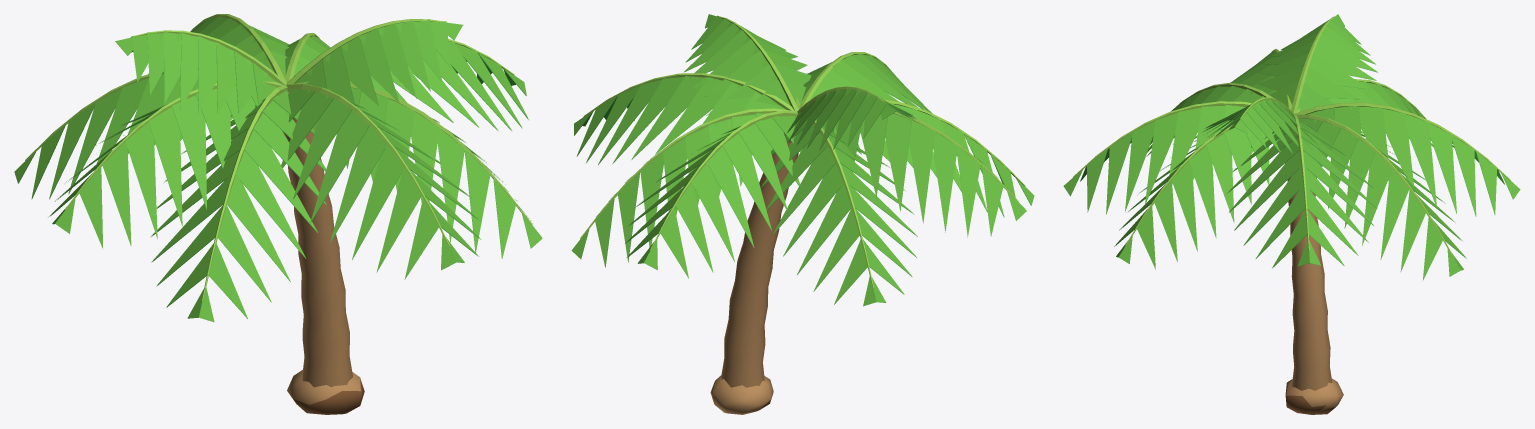
File: palm_b.obj
The picture shows the model from 3 angles, left to right: view 1: azimuth 30°, elevation 25°; view 2: azimuth 150°, elevation 25°; view 3: azimuth 270°, elevation 25°; orthographic projection. The views are drawn at different scales.
Parts seen in each view (by area): view 1: palm_b_frond_mid, palm_b_trunk, palm_b_frond_light, palm_b_frond_dark, palm_b_trunk_dark; view 2: palm_b_frond_mid, palm_b_trunk, palm_b_frond_light, palm_b_frond_dark; view 3: palm_b_frond_mid, palm_b_trunk, palm_b_frond_light, palm_b_frond_dark, palm_b_trunk_dark.
Boxes of the visible parts, x1=… form: palm_b_frond_mid: x1=14, y1=16, x2=542, y2=321; palm_b_trunk: x1=282, y1=92, x2=360, y2=404; palm_b_frond_light: x1=25, y1=14, x2=532, y2=301; palm_b_frond_dark: x1=18, y1=35, x2=532, y2=321; palm_b_trunk_dark: x1=294, y1=108, x2=364, y2=414; palm_b_frond_mid: x1=571, y1=14, x2=1034, y2=305; palm_b_trunk: x1=710, y1=132, x2=798, y2=414; palm_b_frond_light: x1=580, y1=16, x2=1025, y2=287; palm_b_frond_dark: x1=574, y1=26, x2=1031, y2=306; palm_b_frond_mid: x1=1063, y1=14, x2=1520, y2=280; palm_b_trunk: x1=1286, y1=117, x2=1343, y2=410; palm_b_frond_light: x1=1073, y1=17, x2=1510, y2=258; palm_b_frond_dark: x1=1070, y1=26, x2=1512, y2=277; palm_b_trunk_dark: x1=1285, y1=383, x2=1335, y2=414.
Bounding box in the file's own units: 4.68 × 3.74 × 4.71.
